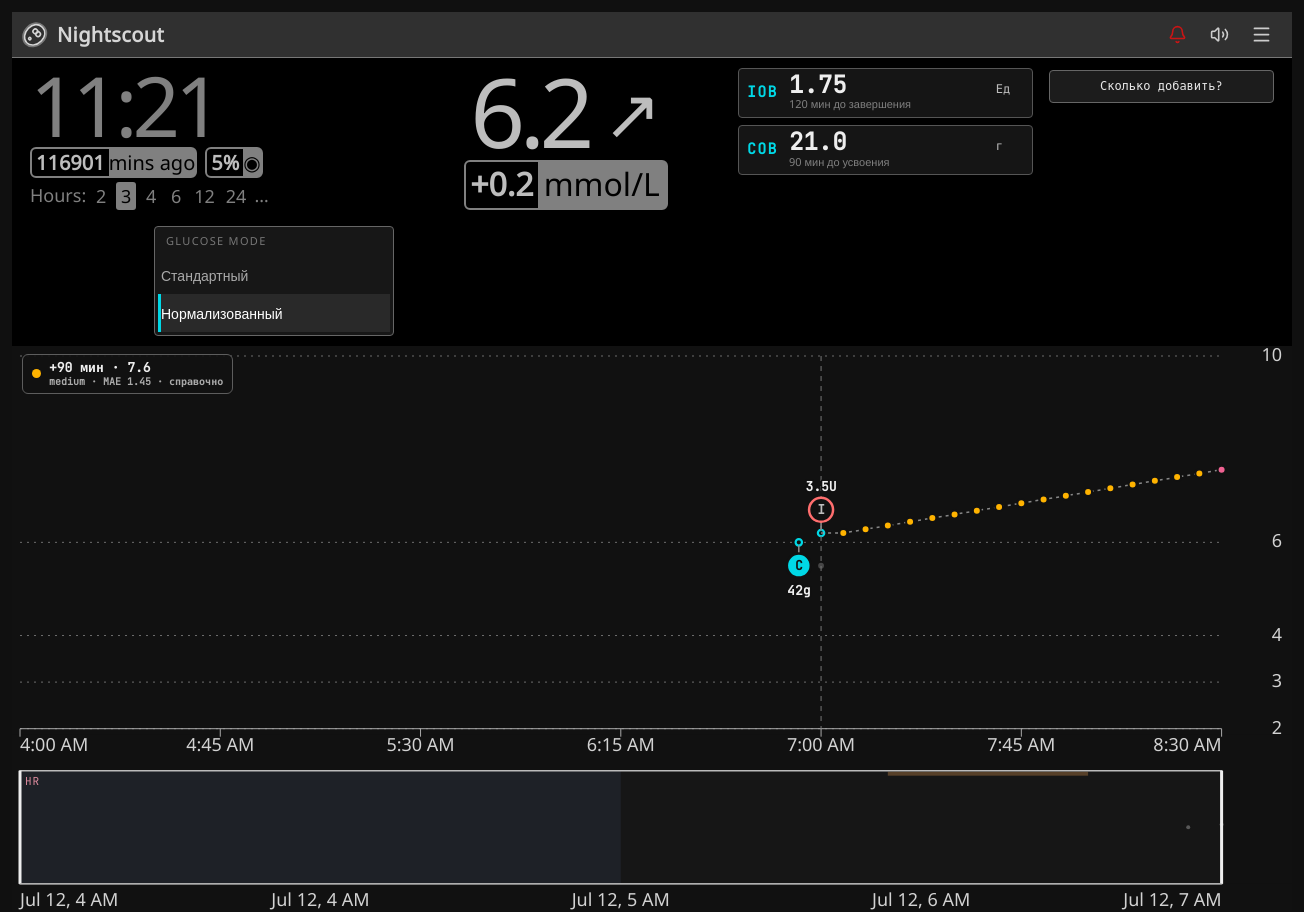
Test case: NightscoutPage › defaults to normalized and can switch to the standard series
Expected: the text "6.2" is shown, [470,64,589,160]
Expected: the element with class "ns-point--normalized" is shown, [796,539,802,546]
Click the button "Стандартный" at (274,275), box [158,256,390,294]
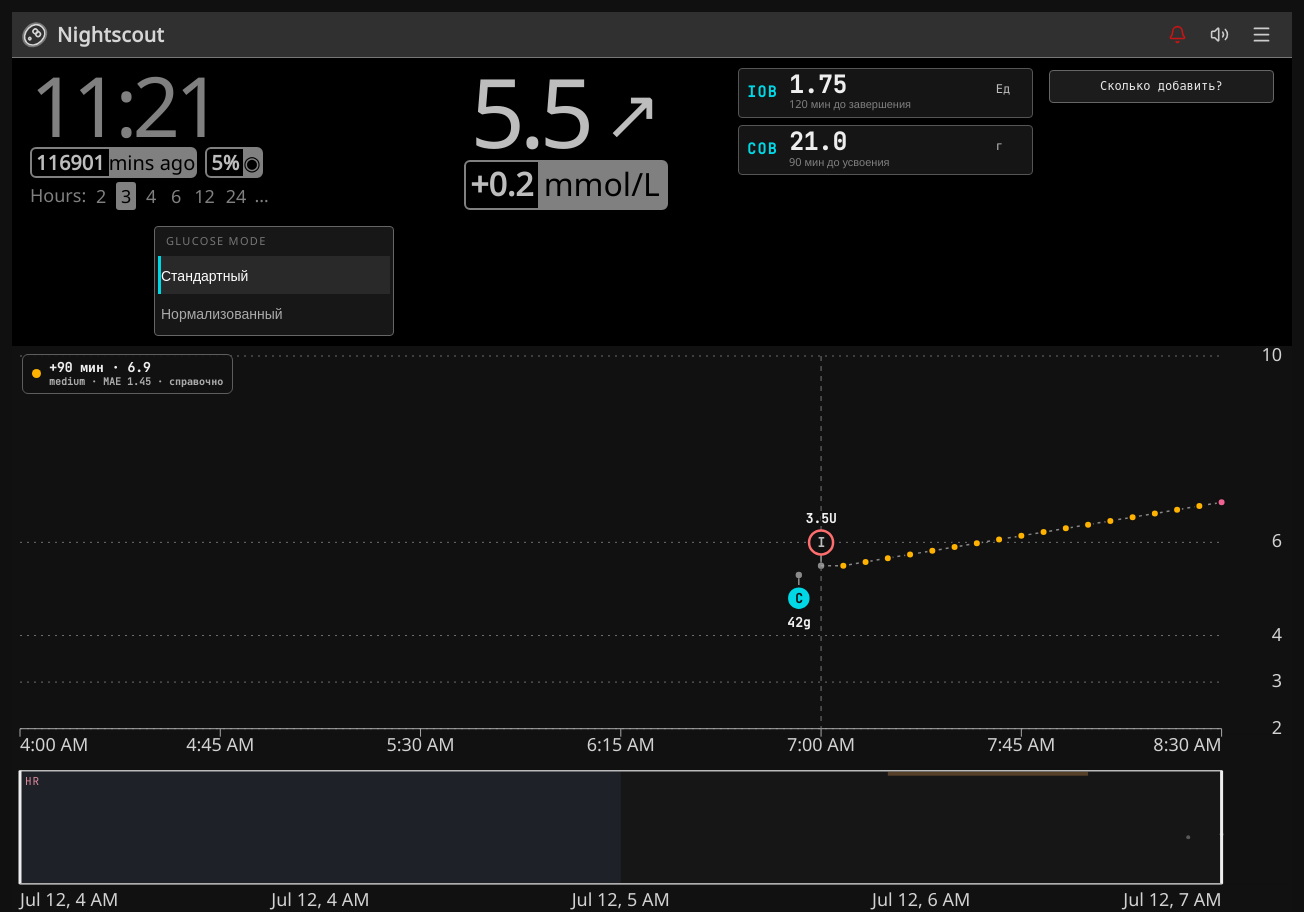
Now the text "5.5" is shown, box [470,64,589,160]
